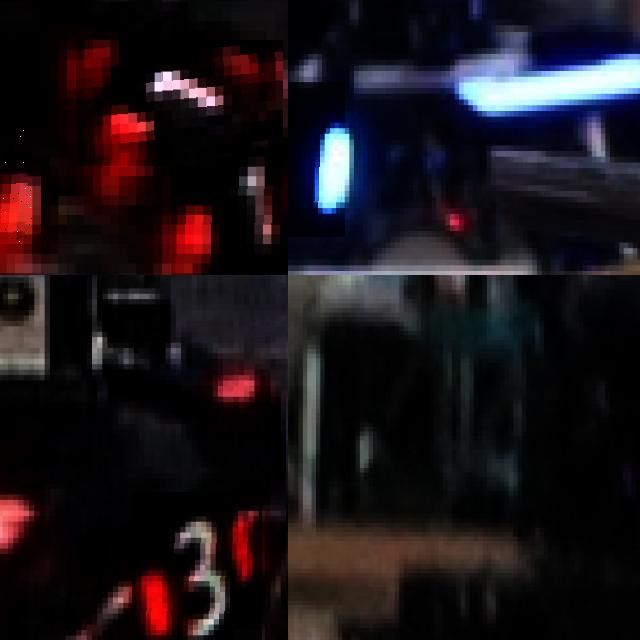B3: (288, 82, 344, 236)
R1: (76, 40, 283, 166), (170, 137, 288, 275)
R3: (131, 491, 262, 640)
